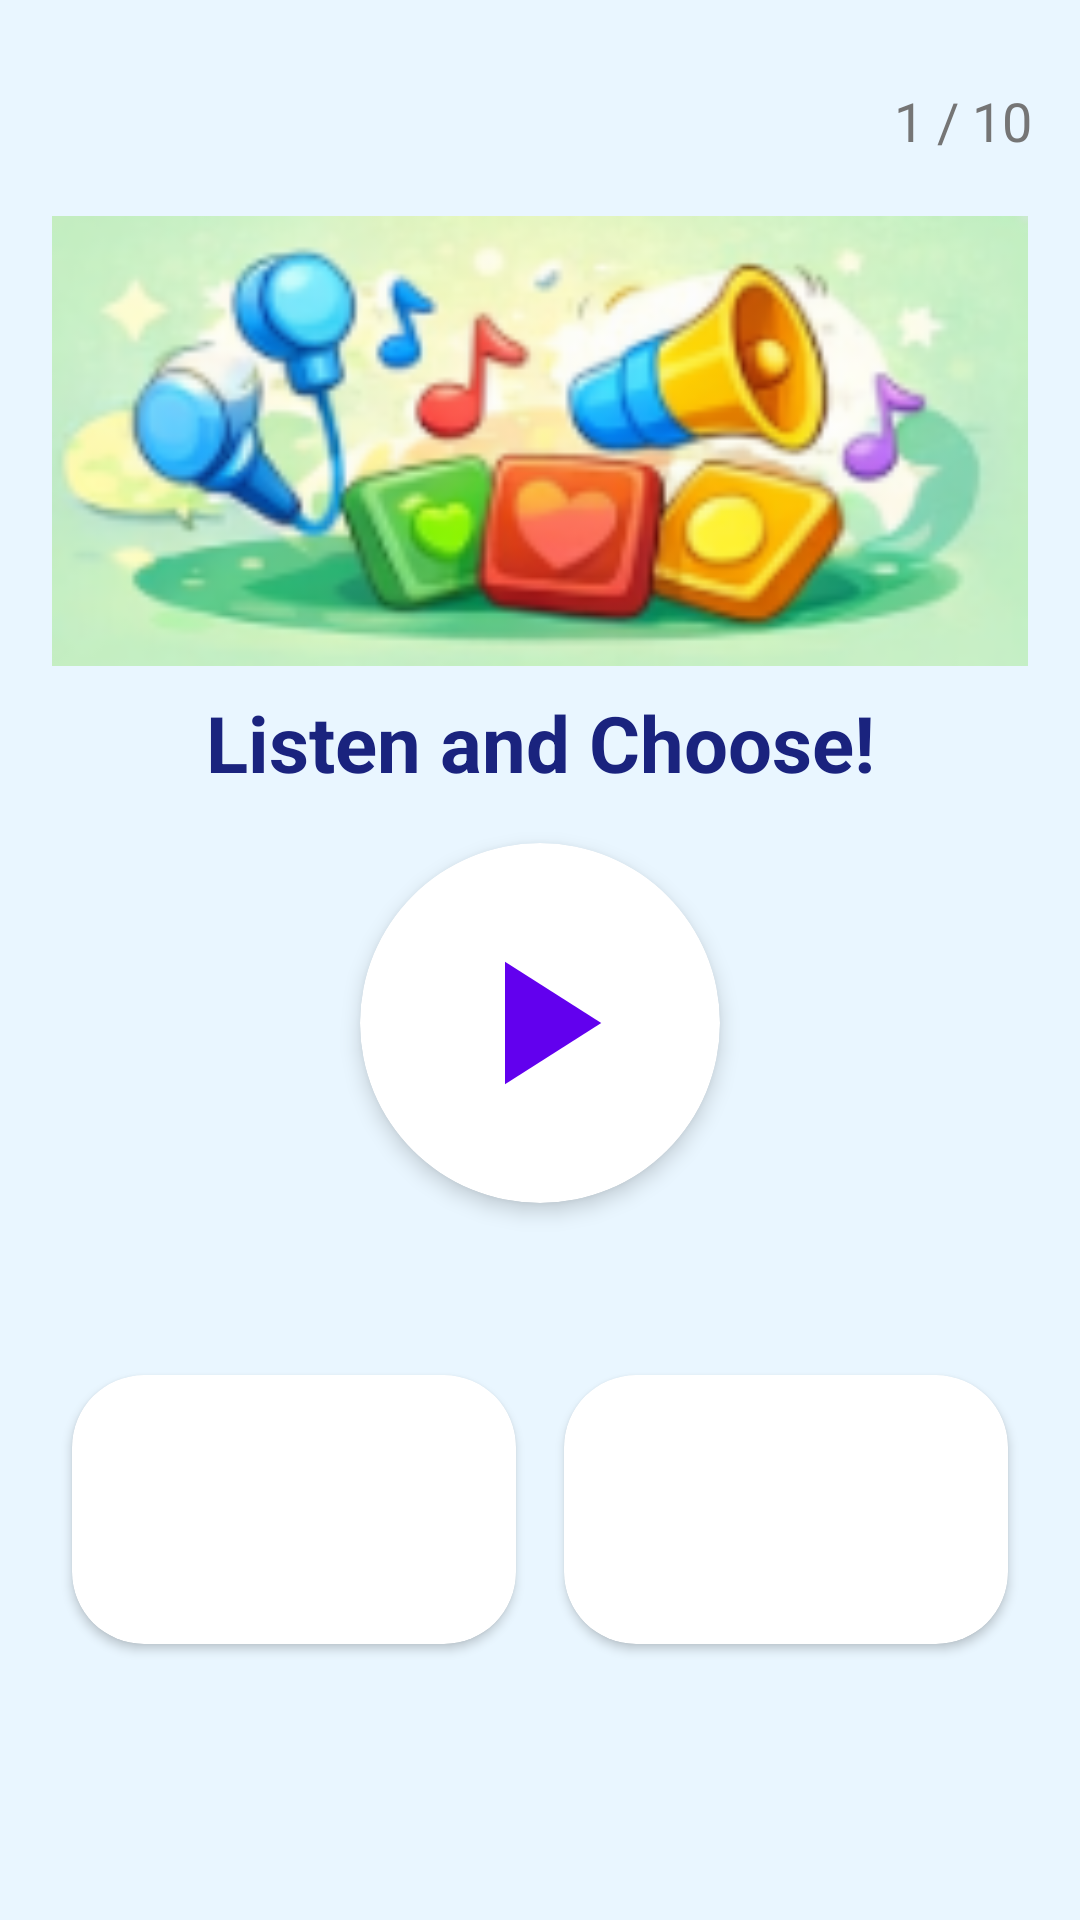

Named icons in this screenshot (1080*1920) and their bounding boxes, (x1, y1, x2, y2):
play: (505, 962, 601, 1084)
